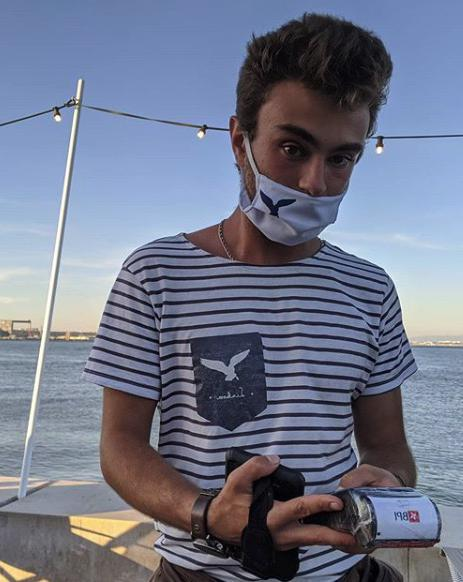mask_weared_incorrect: (228, 127, 370, 241)
